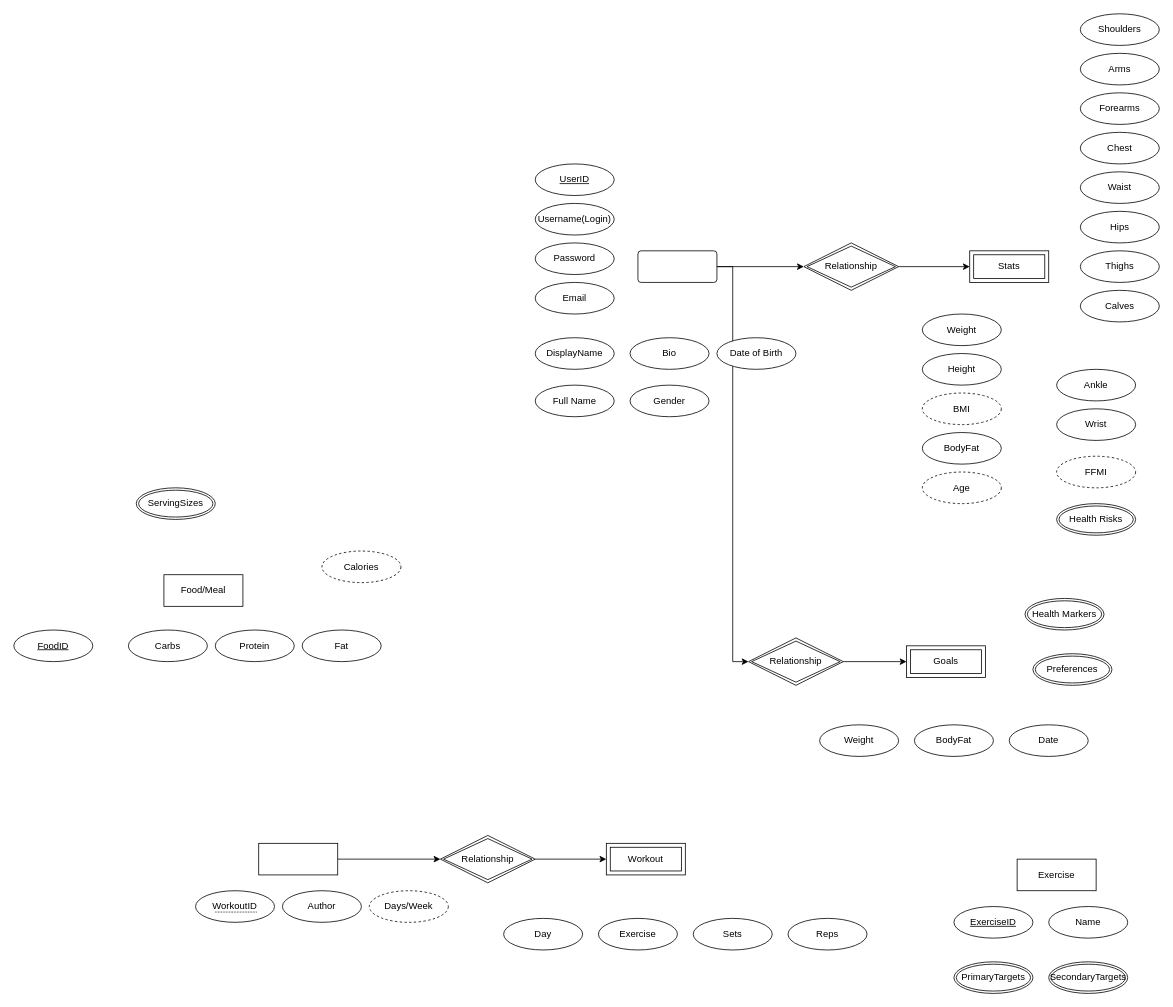
Some shapes in this 1173 by 1007 pixel diagram are drawn without their labels. The shapes that lost their labels are listed below. From the top down, each one's centre as x and y in pixels, then its label:
At pixel 677 266: "UserAccount".
At pixel 298 859: "WorkoutRoutine".
